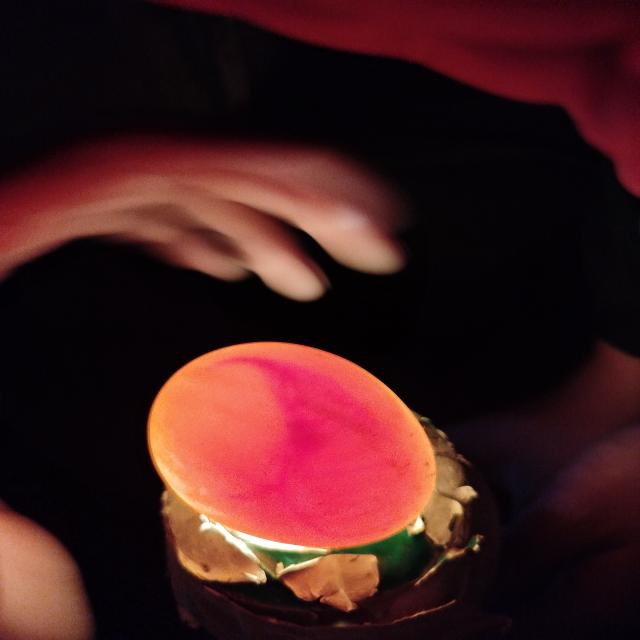Gema Quebrada: (152, 357, 418, 543)
